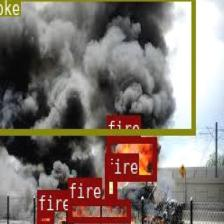fire: (106, 136, 155, 179), (67, 198, 129, 223), (104, 174, 116, 199), (36, 210, 53, 224)
smoke: (0, 0, 195, 134)
